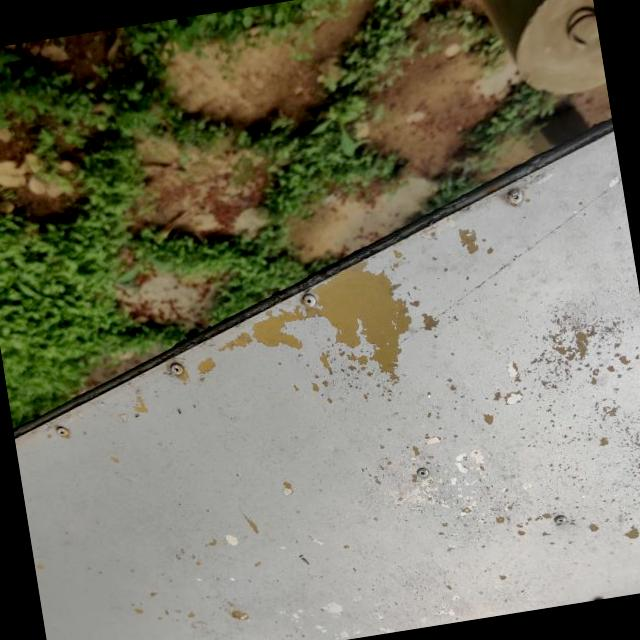paint-off: (209, 240, 438, 427)
